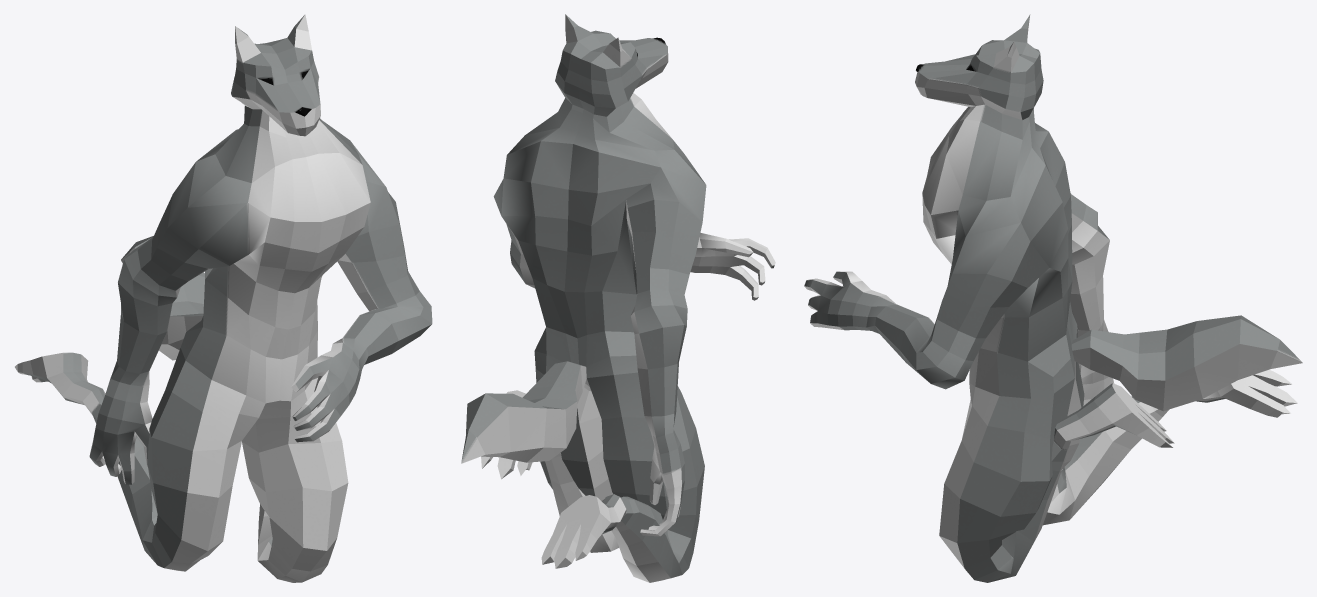
File: WolfDead(43).obj
3 views of the same model, side by side, from view 1: azimuth 30°, elevation 25°; view 2: azimuth 150°, elevation 25°; view 3: azimuth 270°, elevation 25° (orthographic).
Visible parts, largest first — view 1: Box001; view 2: Box001; view 3: Box001.
Part boxes in pixels (x1,y1,x2,y2): Box001: (15,14,432,582); Box001: (461,14,775,582); Box001: (804,14,1302,582).
Bounding box in the file's own units: 58.6 × 122 × 101.
